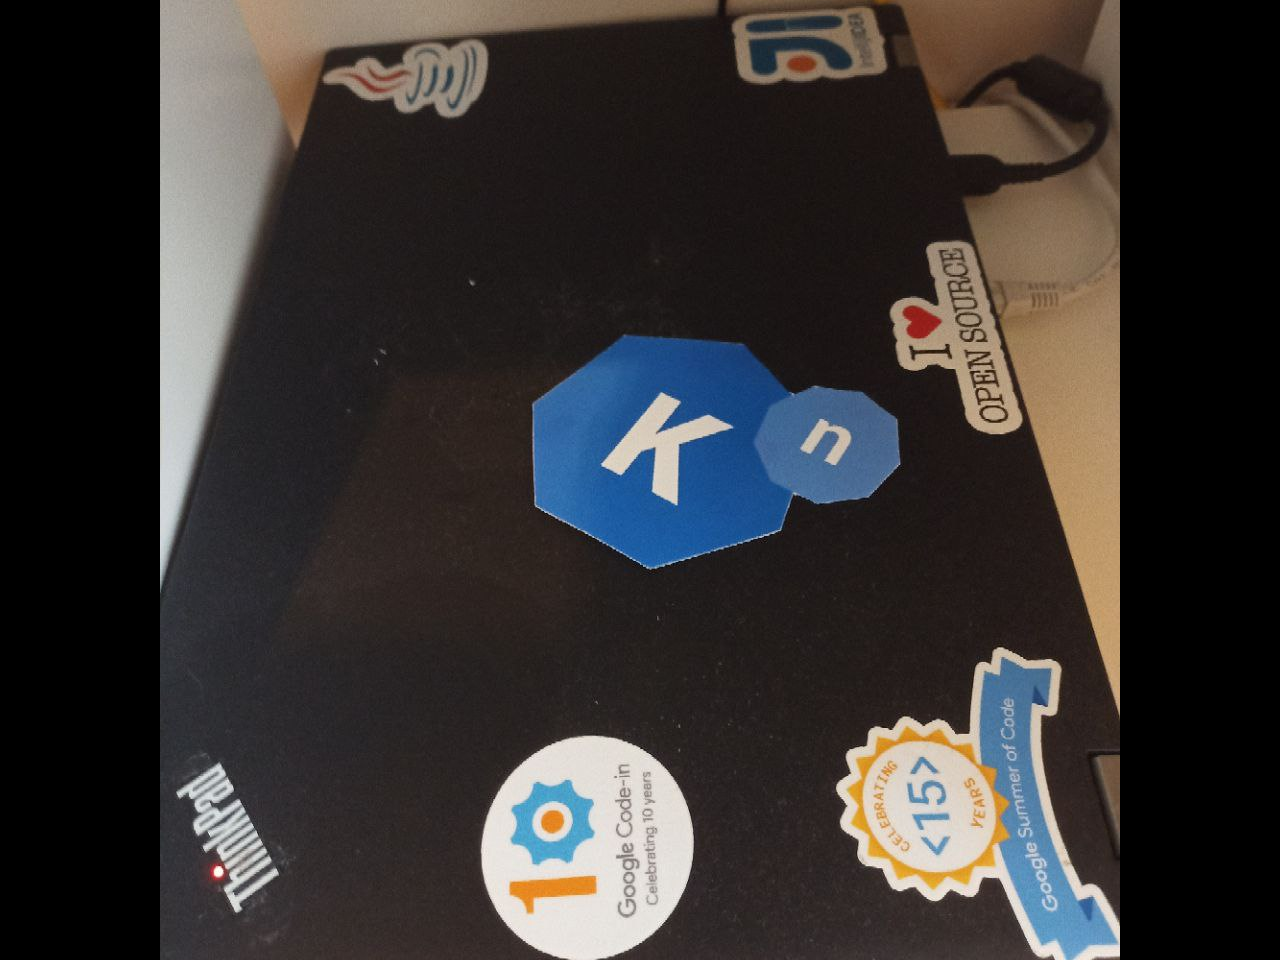knative: (532, 334, 901, 568)
